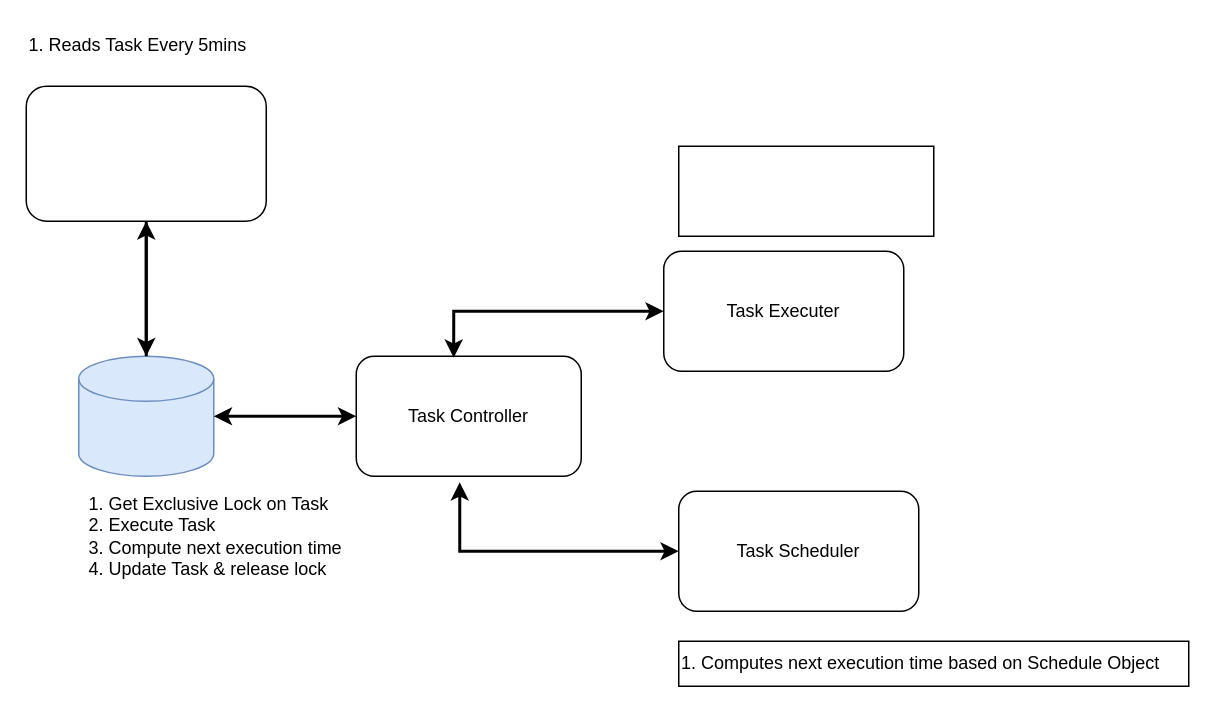
Some shapes in this 1215 by 713 pixel diagram are drawn without their labels. Here are the shapes that lost their labels. From the top down, the centre of each, then its label:
At (145,153): "Refresh Controller".
At (805,190): "1. Loads executer class 2. Run Task with Task Data 3. Push for Retrie".
